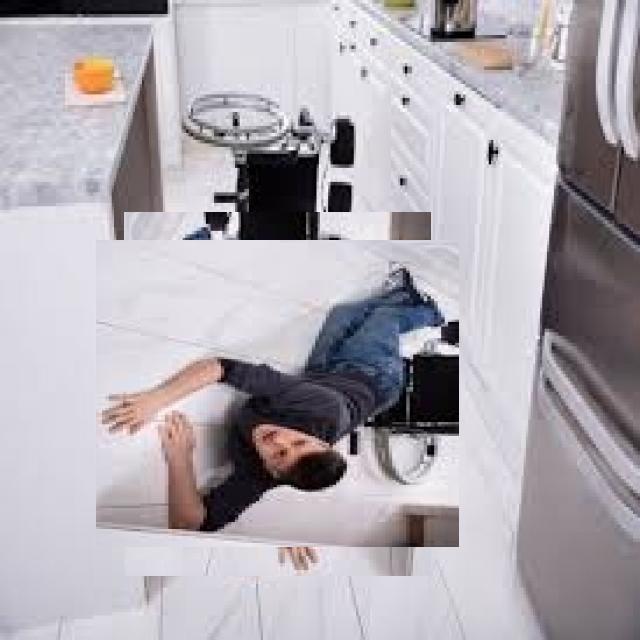Fall: (114, 233, 483, 541)
